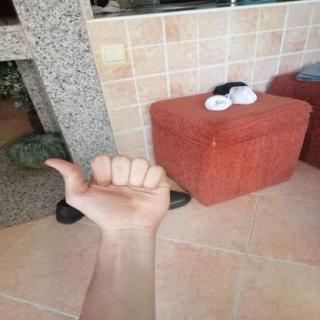DAD: (34, 148, 181, 238)
